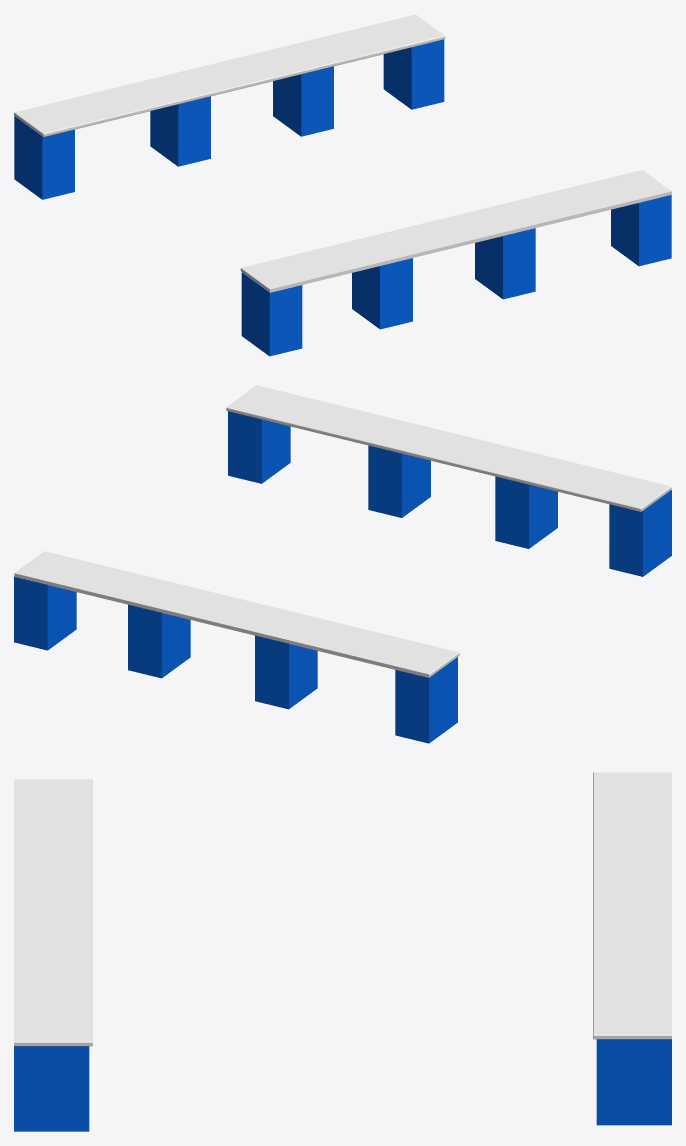
The model's file is side tables.fbx.
The picture shows the model from 3 angles, top to bottom: view 1: azimuth 30°, elevation 25°; view 2: azimuth 150°, elevation 25°; view 3: azimuth 270°, elevation 25°; orthographic projection. The views are drawn at different scales.
Parts seen in each view (by area): view 1: Cube.008; view 2: Cube.008; view 3: Cube.008.
Boxes of the visible parts, x1,y1,x2,y2 form: Cube.008: [14, 14, 671, 356]; Cube.008: [14, 385, 671, 743]; Cube.008: [14, 772, 671, 1131].
Size of the model in its own units: 955 by 148 by 983.
